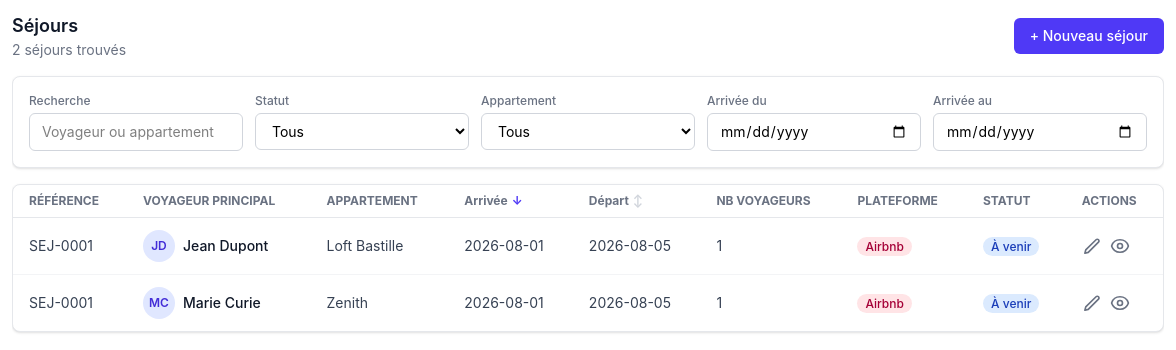
Test: SejoursListeSection › filtre par recherche texte (voyageur ou appartement)
The width and height of the screenshot is (1176, 350).
Expected: the text "2 séjours trouvés" is shown, [12,40,126,60]
In the field labelled "Recherche": (136, 132) [29,113,243,151], type "Curie"
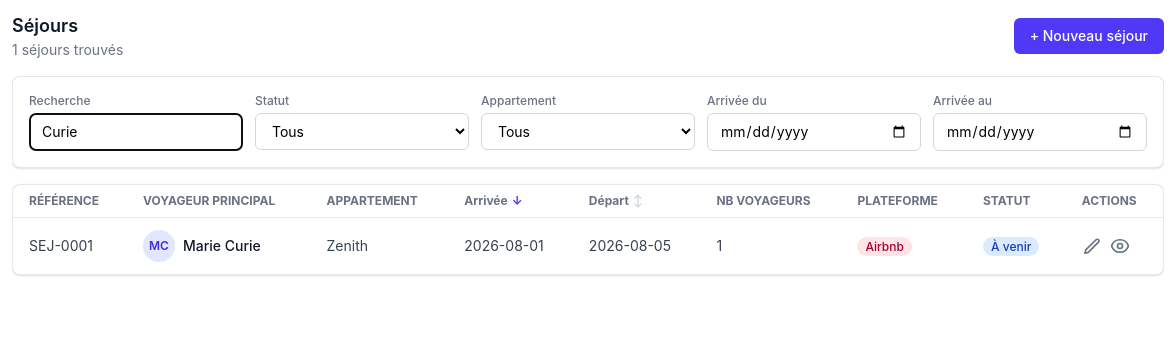
Expected: the text "Marie Curie" is shown, [183,236,261,256]
Now the text "1 séjours trouvés" is shown, box [12,40,123,60]
Now the text "Jean Dupont" is gone
